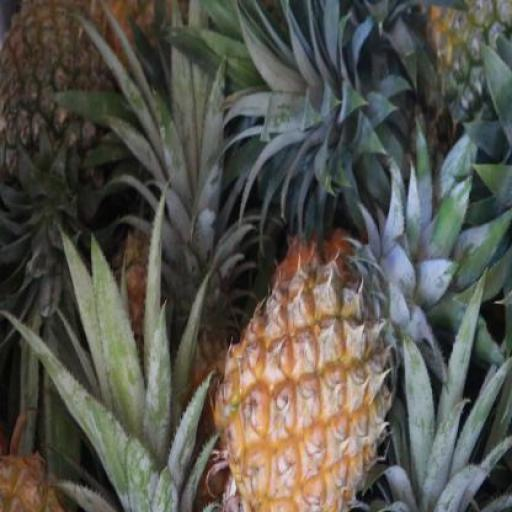Pineapple - v8 v1: (214, 251, 400, 512)
